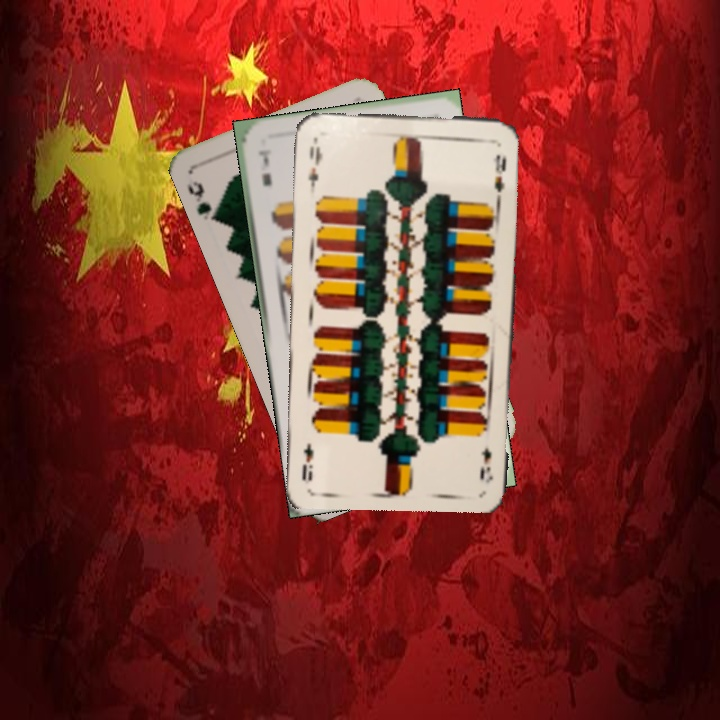E7: (254, 146, 274, 189)
E9: (304, 142, 325, 194), (477, 443, 495, 485)
G9: (183, 177, 223, 224)
